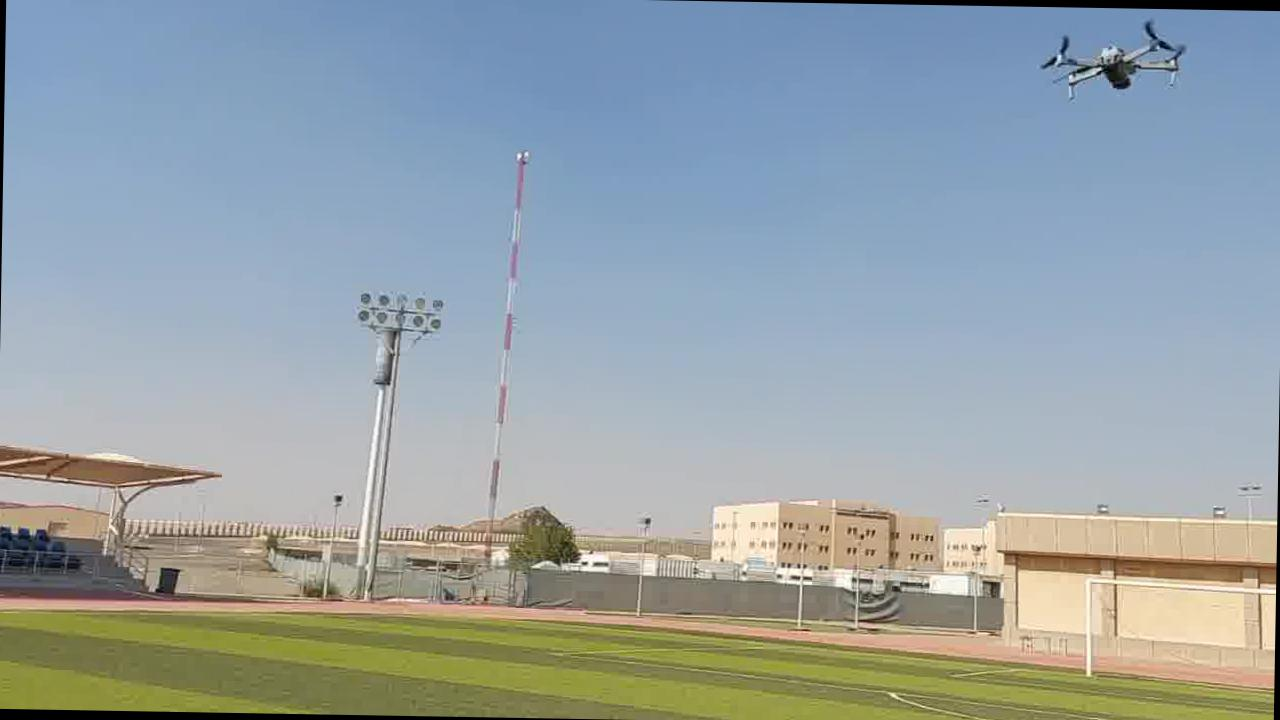drone: (1017, 14, 1196, 120)
